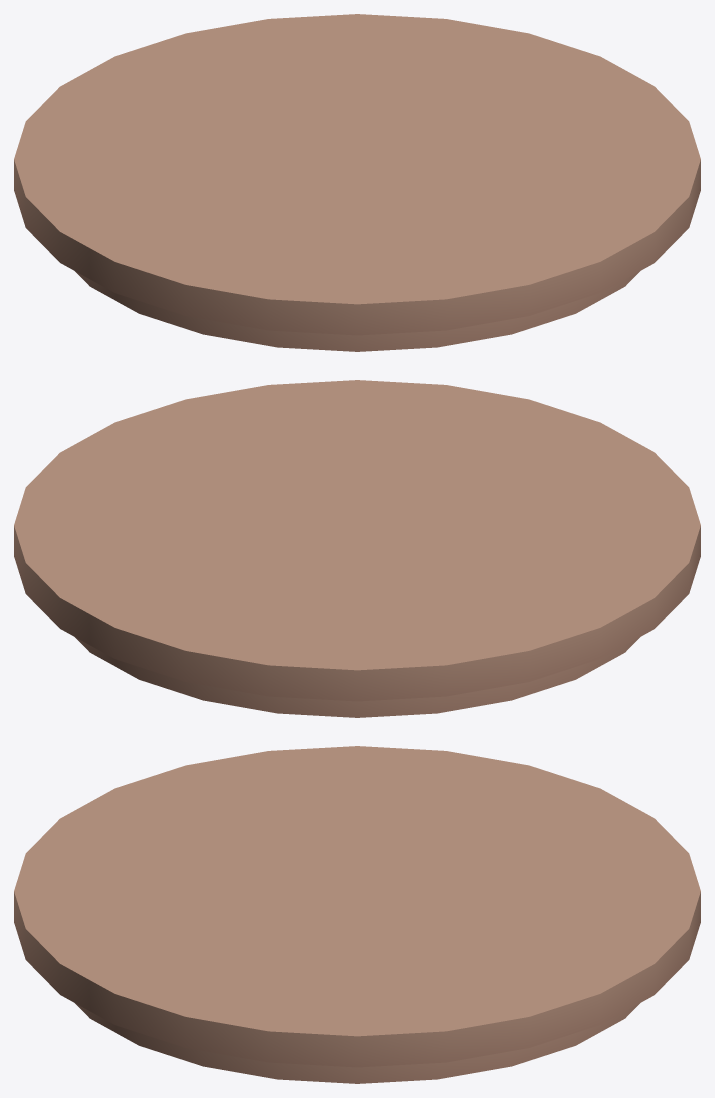
The model's file is surface-round-edge.glb.
3 renders of one model, top to bottom at view 1: azimuth 30°, elevation 25°; view 2: azimuth 150°, elevation 25°; view 3: azimuth 270°, elevation 25°, orthographic.
Visible parts, largest first — view 1: surface-round-edge; view 2: surface-round-edge; view 3: surface-round-edge.
Part boxes in pixels (x1,y1,x2,y2): surface-round-edge: (14,14,700,351); surface-round-edge: (14,380,700,717); surface-round-edge: (14,746,700,1083).
Size of the model in its own units: 1 by 0.1 by 1.
